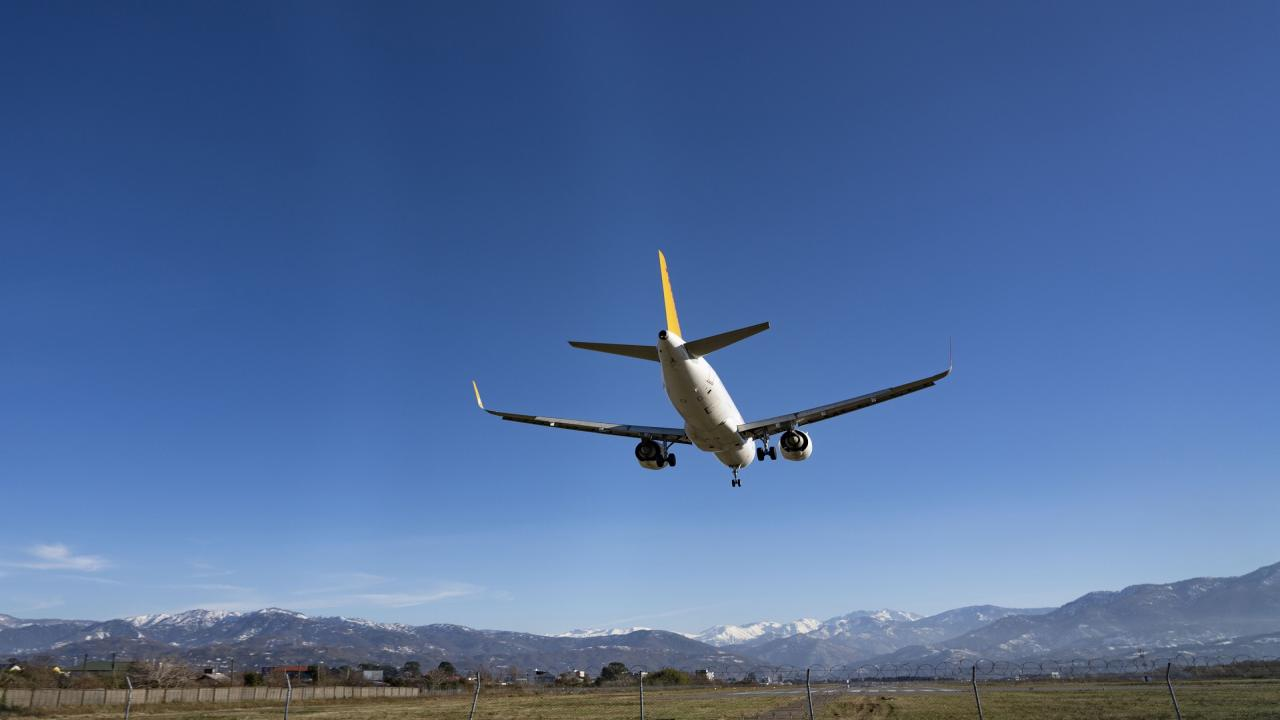Airplane: (463, 240, 965, 498)
